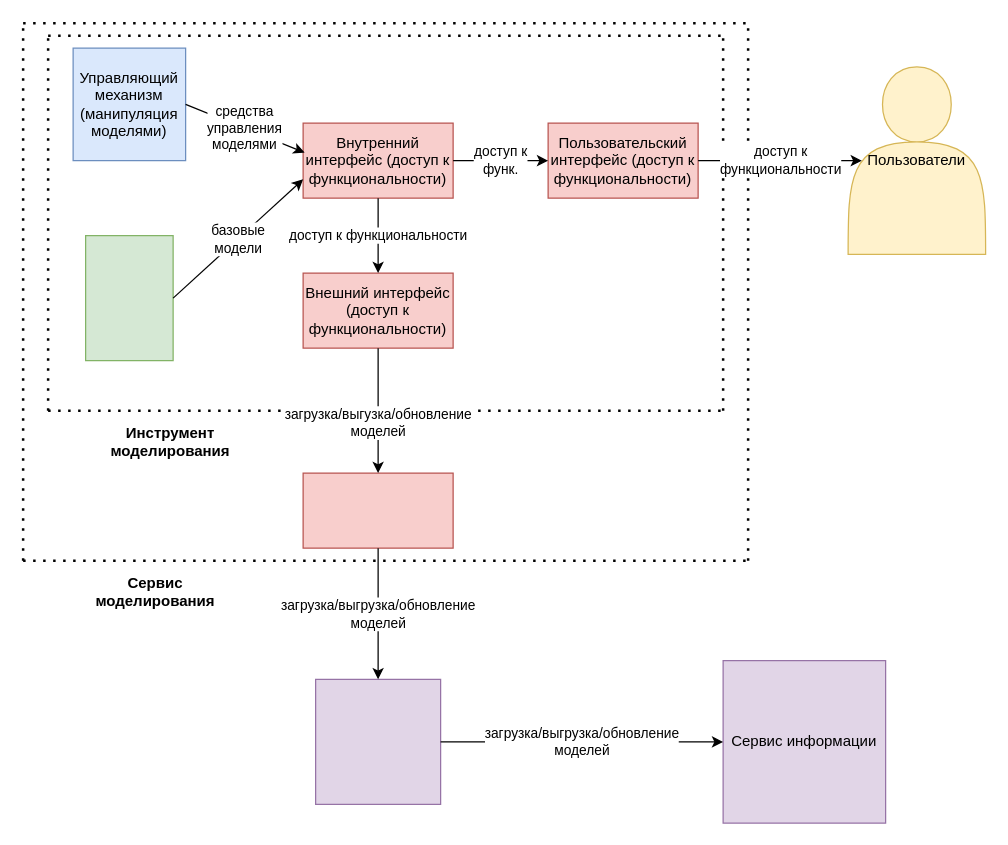
Image size: 1008x845. Some labels were removed from this diagram. Each missing label, with the centre of its shape:
"Адаптер интеграции (интеграция с внешними сервисами)" goes at point (377, 510).
"Коллекция базовых моделей (предоставление моделей)" goes at point (128, 297).
"Механизм интеграции (интеграция с внешними сервисами)" goes at point (377, 741).
